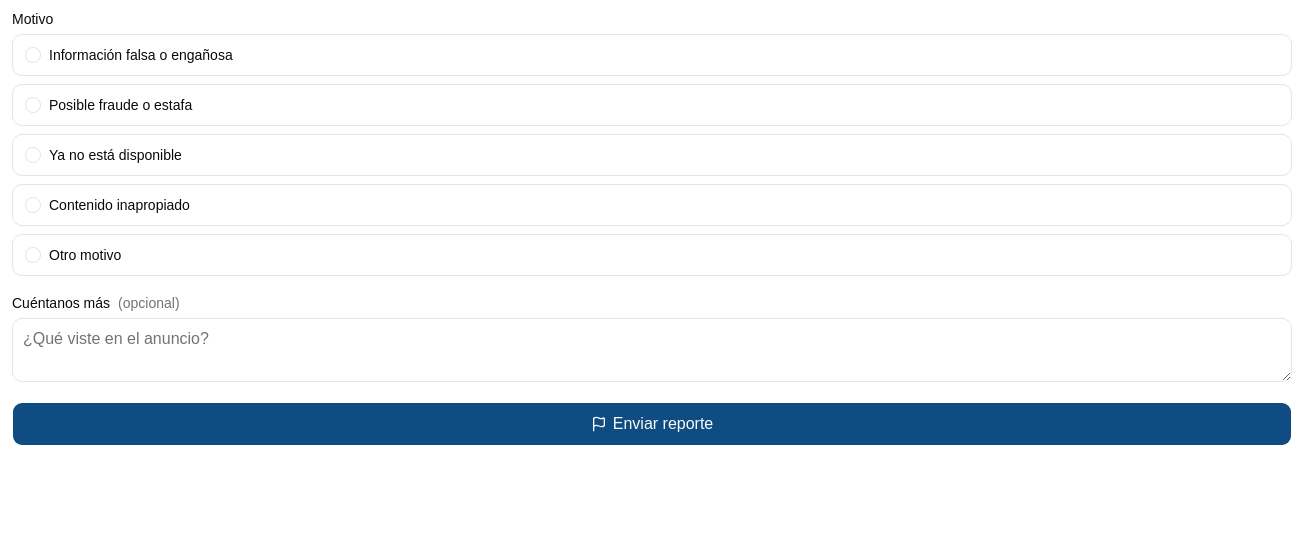
it: ReportPropertyForm › cuando los reportes aún no están activos lo dice, sin fingir que se envió
The image size is (1304, 543).
Click the radio button named "Contenido inapropiado" next to "Contenido inapropiado": (33, 205) [25, 197, 41, 213]
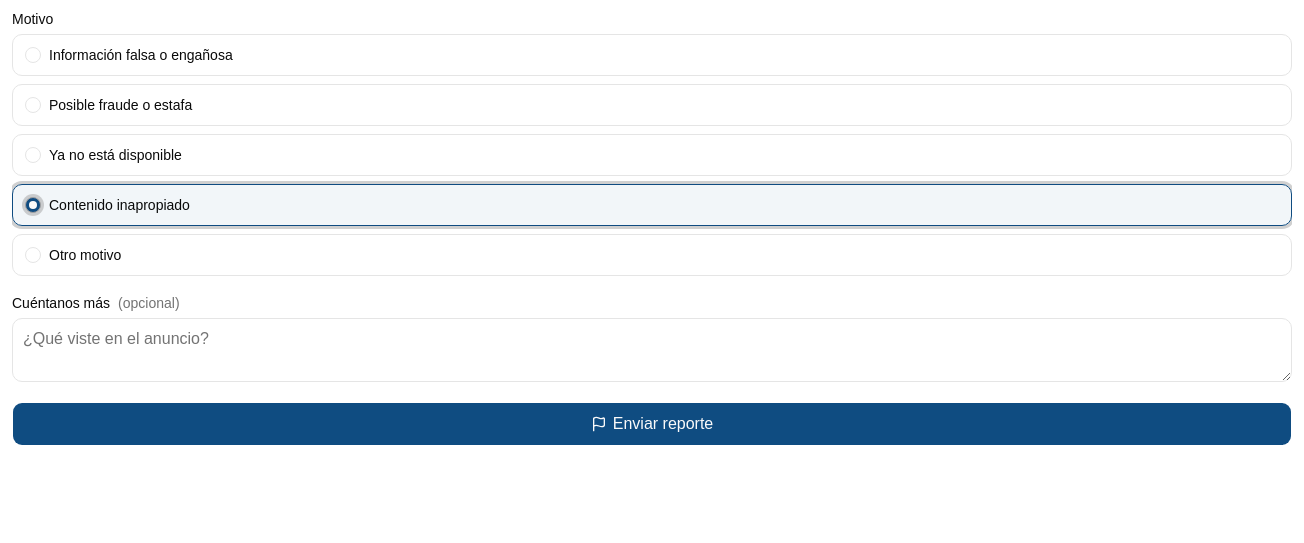
Click the button "Enviar reporte": (652, 424) [12, 402, 1292, 446]
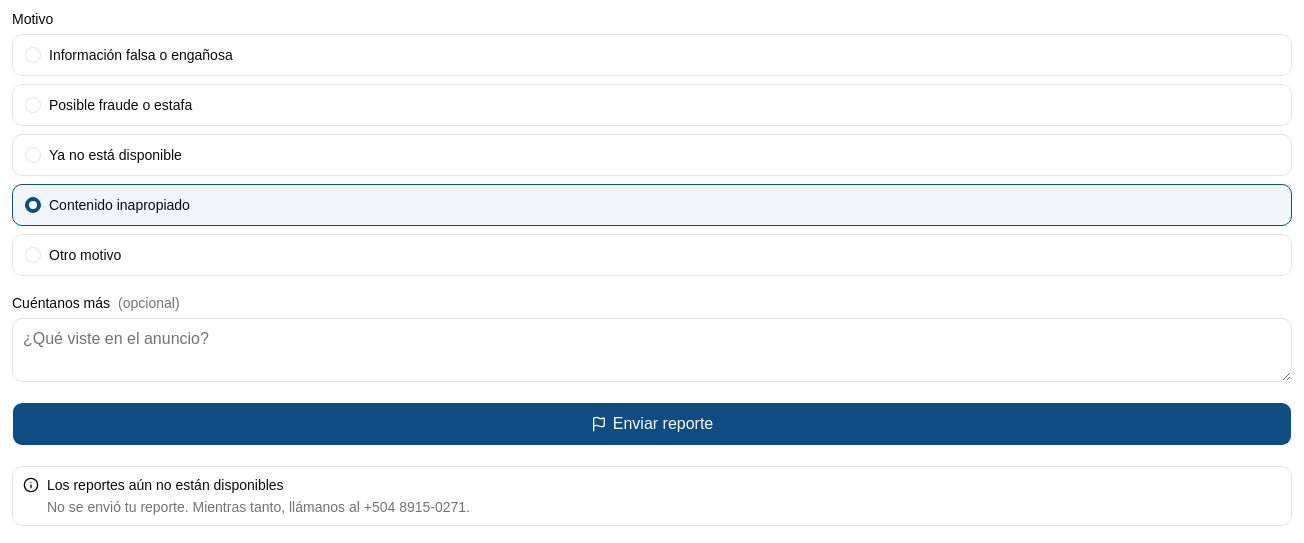
Now the text "Los reportes aún no están disponibles" shows "No se envió tu reporte.", box [47, 499, 470, 515]
